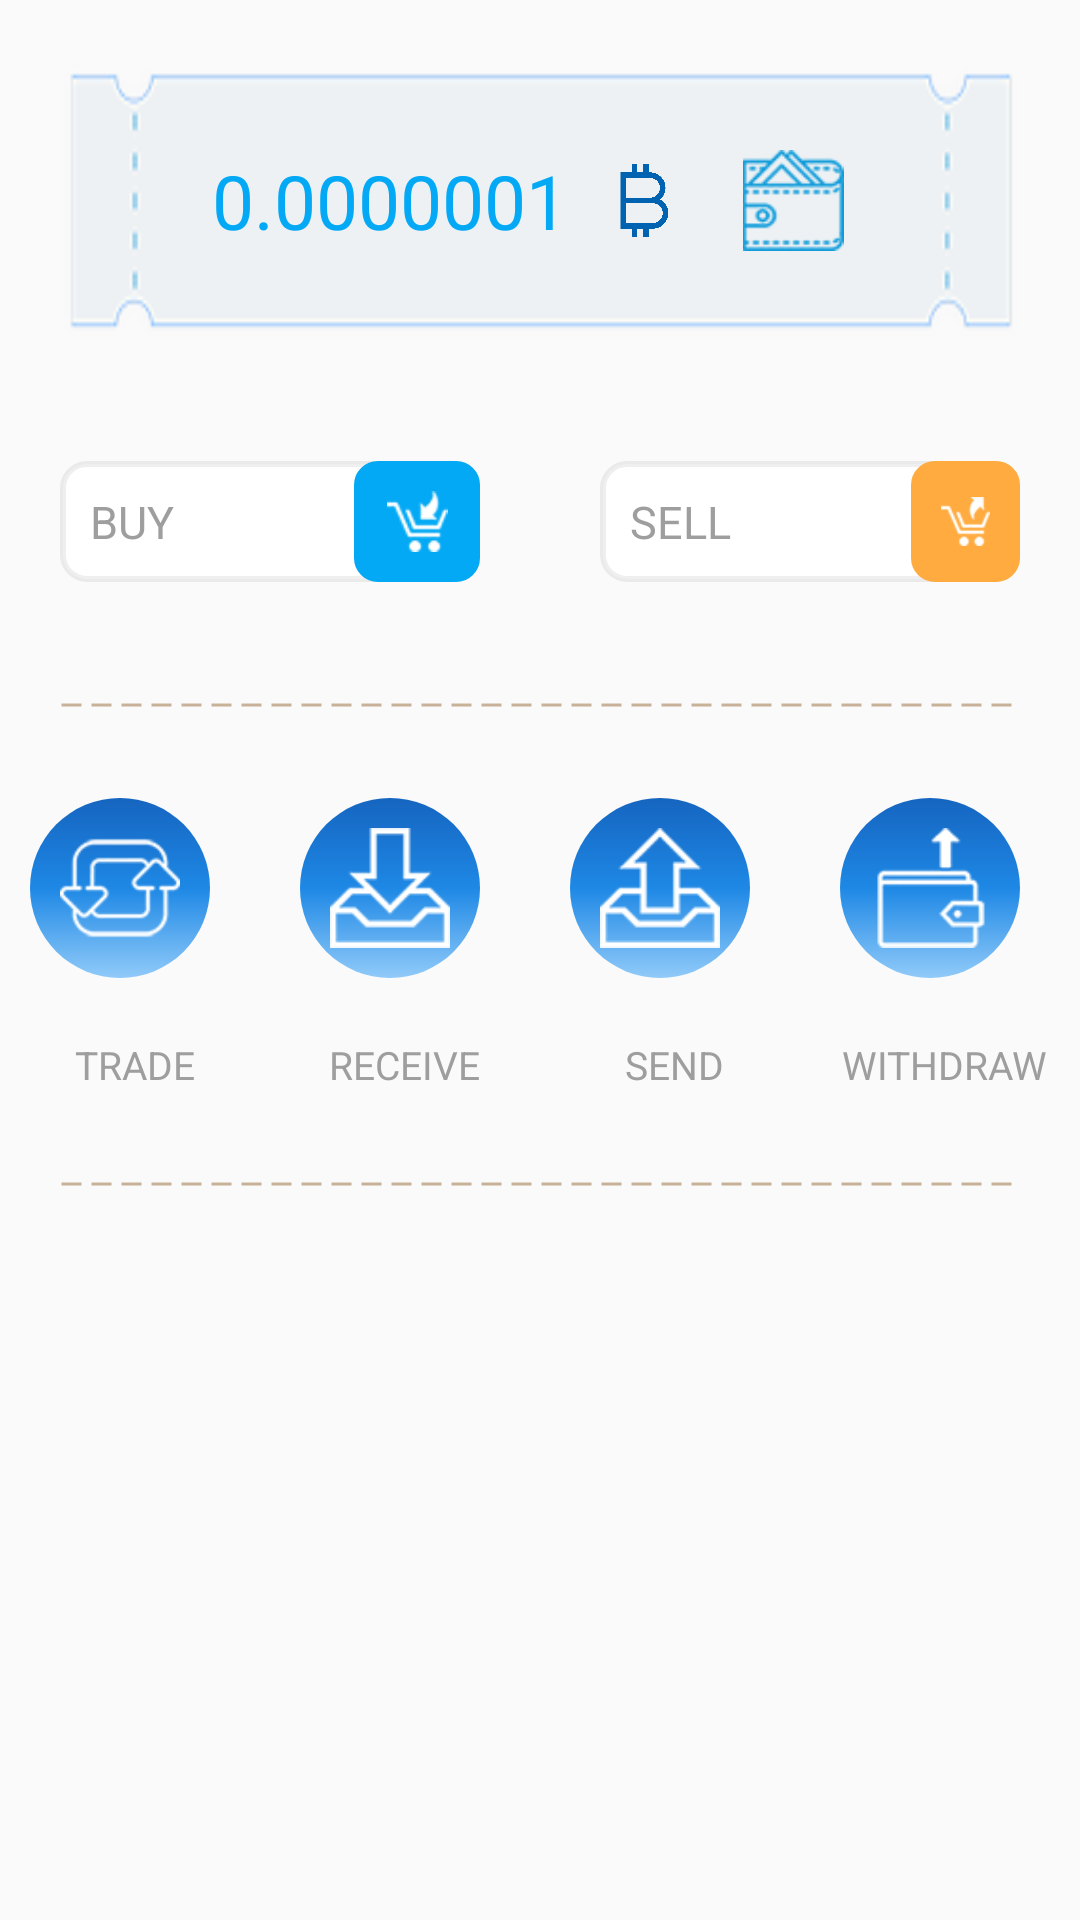

Icon click points for this 1080w x 1920h phone screenshot, format [x,y]:
walletii: [793,200]
